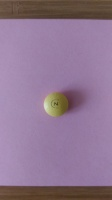Nurofen: (42, 92, 71, 118)
